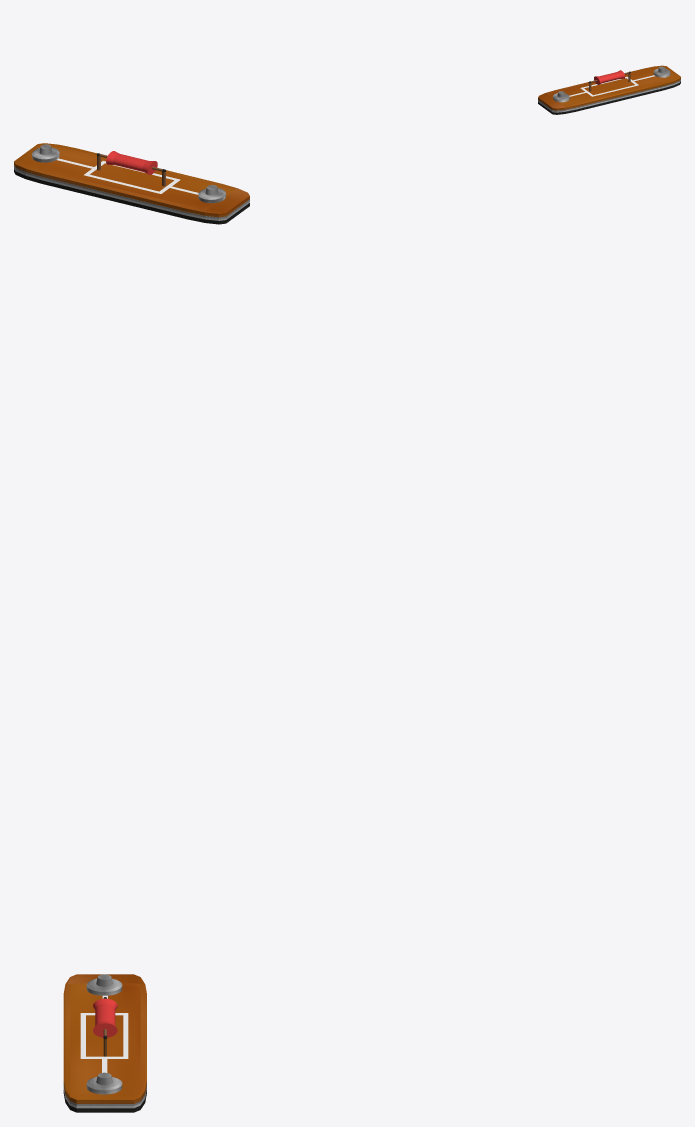
File: resistor.glb
3 views of the same model, one above another, from view 1: azimuth 30°, elevation 25°; view 2: azimuth 150°, elevation 25°; view 3: azimuth 270°, elevation 25° (orthographic). The views are drawn at different scales.
Parts seen in each view (by area): view 1: Cube_9, Cube.002_11, Cube.001_10, Cylinder_12; view 2: Cube_9, Cube.002_11, Cube.001_10, Cylinder_12, Cylinder.008_1, Cylinder.007_0; view 3: Cube_9.
Part boxes in pixels (x1,y1,x2,y2): Cube_9: (538, 65, 680, 110); Cube.002_11: (538, 81, 680, 114); Cube.001_10: (538, 79, 680, 112); Cylinder_12: (594, 70, 625, 84); Cube_9: (14, 143, 249, 217); Cube.002_11: (14, 169, 249, 224); Cube.001_10: (14, 165, 249, 220); Cylinder_12: (106, 151, 157, 174); Cylinder.008_1: (32, 144, 59, 162); Cylinder.007_0: (198, 185, 225, 203); Cube_9: (63, 974, 146, 1103).
Size of the model in its own units: 25.5 by 4.46 by 11.86.
Materials: 6 (4 with a texture image).
